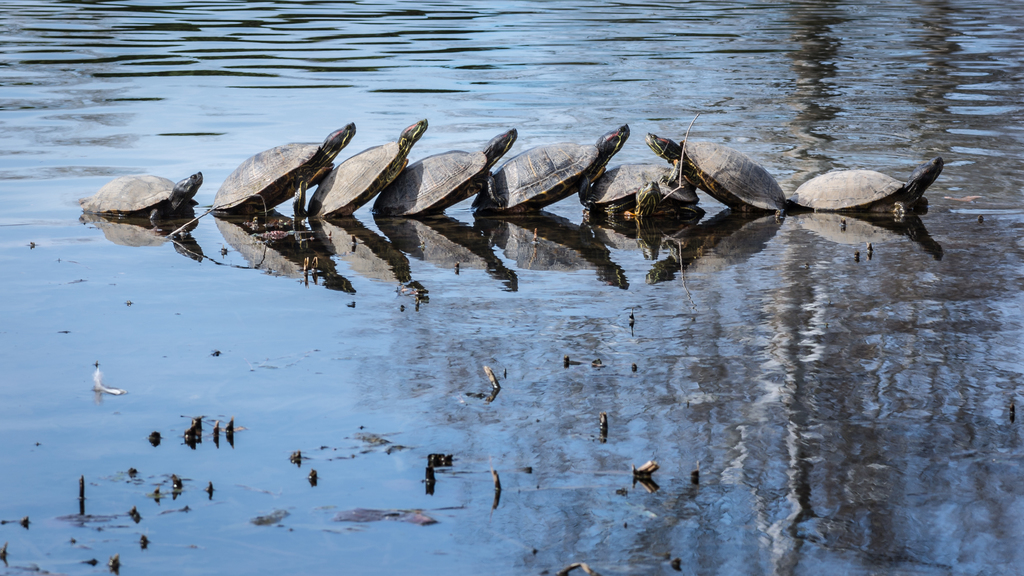Sea turtles: (70, 114, 944, 223)
